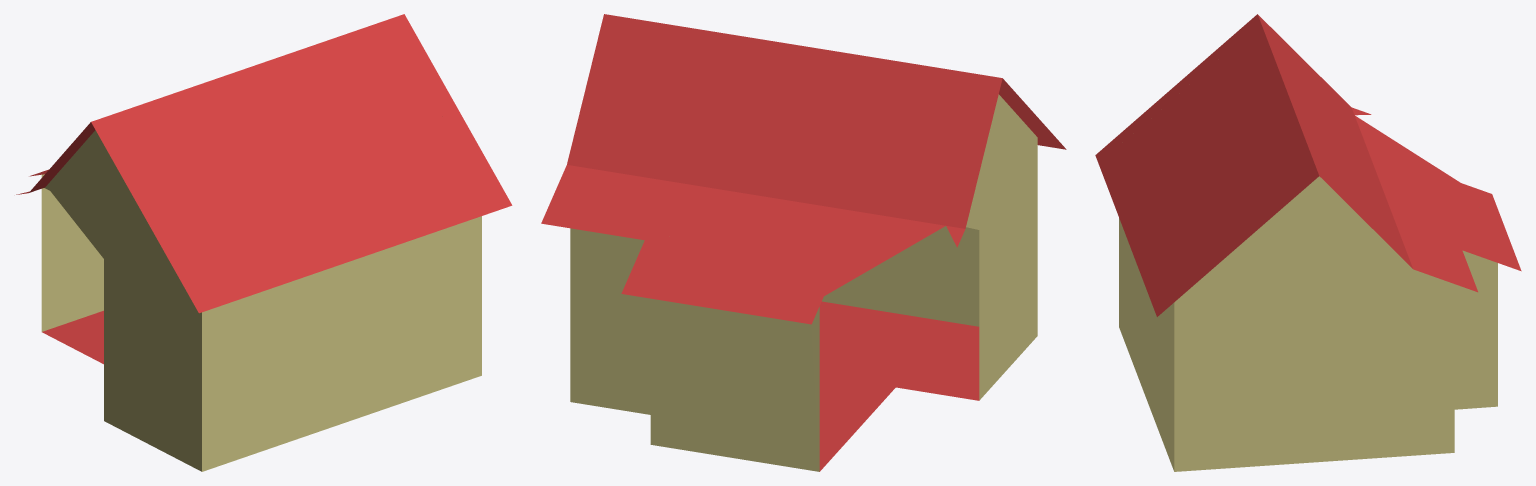
The picture shows the model from 3 angles, left to right: view 1: azimuth 30°, elevation 25°; view 2: azimuth 150°, elevation 25°; view 3: azimuth 270°, elevation 25°; orthographic projection. The views are drawn at different scales.
Size of the model in its own units: 15.5 by 15.43 by 11.77.
